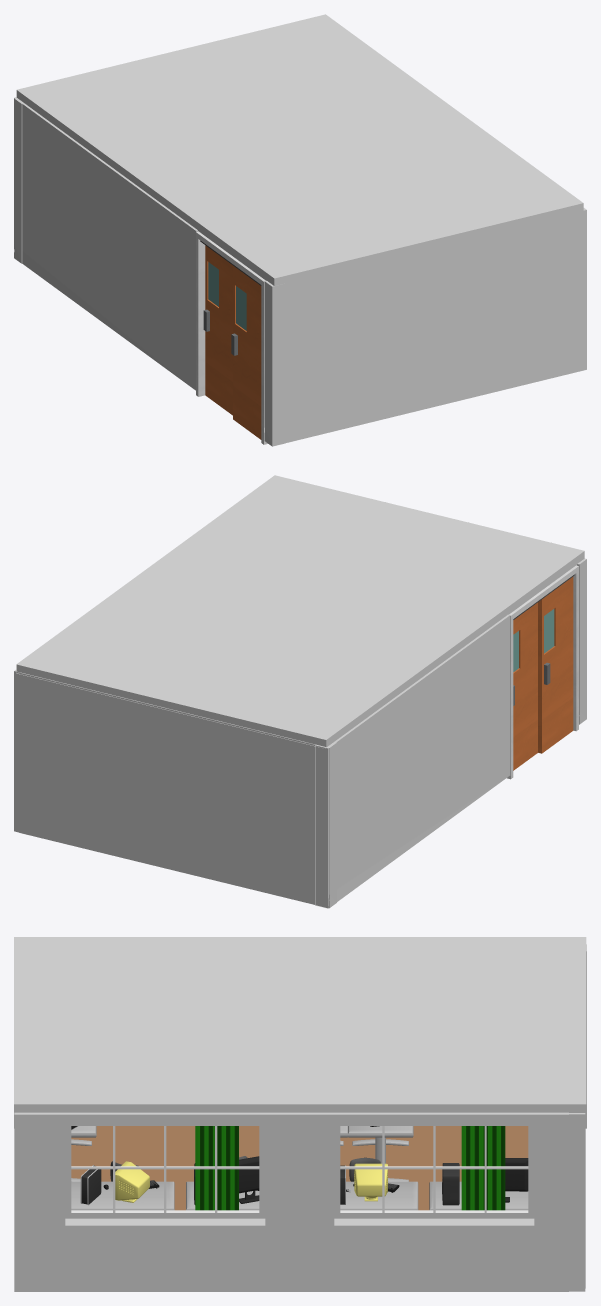
File: computer_classroom_glb.glb
The picture shows the model from 3 angles, top to bottom: view 1: azimuth 30°, elevation 25°; view 2: azimuth 150°, elevation 25°; view 3: azimuth 270°, elevation 25°; orthographic projection. The views are drawn at different scales.
Visible parts, largest first — view 1: ceiling, COMPUTERdemoscene, column.002, ClassRoomDoor_8.001, ClassRoomDoor_10.001, column.001, DoorClassroom_1, column.004; view 2: ceiling, column.003, column.002, ClassRoomDoor_8.001, ClassRoomDoor_10.001, DoorClassroom_1, column.001, column.004, column.005; view 3: ceiling, COMPUTERdemoscene, COMPUTERdemoscene_23, COMPUTERdemoscene_2, COMPUTERdemoscene_1, column.005, COMPUTERdemoscene_26, COMPUTERdemoscene_5, COMPUTERdemoscene_6, COMPUTERdemoscene_4, COMPUTERdemoscene_3, COMPUTERdemoscene_9 (+2 smaller).
Part boxes in pixels (x1,y1,x2,y2): ceiling: (16,14,583,285); COMPUTERdemoscene: (285,208,586,443); column.002: (14,97,198,390); ClassRoomDoor_8.001: (231,265,261,439); ClassRoomDoor_10.001: (203,245,232,415); column.001: (264,281,285,446); DoorClassroom_1: (196,231,267,444); column.004: (14,98,22,263); ceiling: (16,475,584,748); column.003: (19,672,317,904); column.002: (315,614,510,908); ClassRoomDoor_8.001: (538,577,573,753); ClassRoomDoor_10.001: (513,602,537,770); DoorClassroom_1: (507,565,578,779); column.001: (577,558,586,724); column.004: (329,742,336,908); column.005: (14,670,19,832); ceiling: (14,937,586,1114); COMPUTERdemoscene: (14,1112,568,1291); COMPUTERdemoscene_23: (71,1181,528,1210); COMPUTERdemoscene_2: (461,1126,505,1210); COMPUTERdemoscene_1: (195,1126,238,1210); column.005: (569,1113,585,1291); COMPUTERdemoscene_26: (348,1126,413,1181); COMPUTERdemoscene_5: (354,1163,387,1201); COMPUTERdemoscene_6: (115,1161,149,1202); COMPUTERdemoscene_4: (239,1156,259,1203); COMPUTERdemoscene_3: (505,1158,528,1202); COMPUTERdemoscene_9: (442,1163,459,1205).
Bounding box in the file's own units: 7.31 × 3.8 × 10.36.
9 materials, 9 textured.
